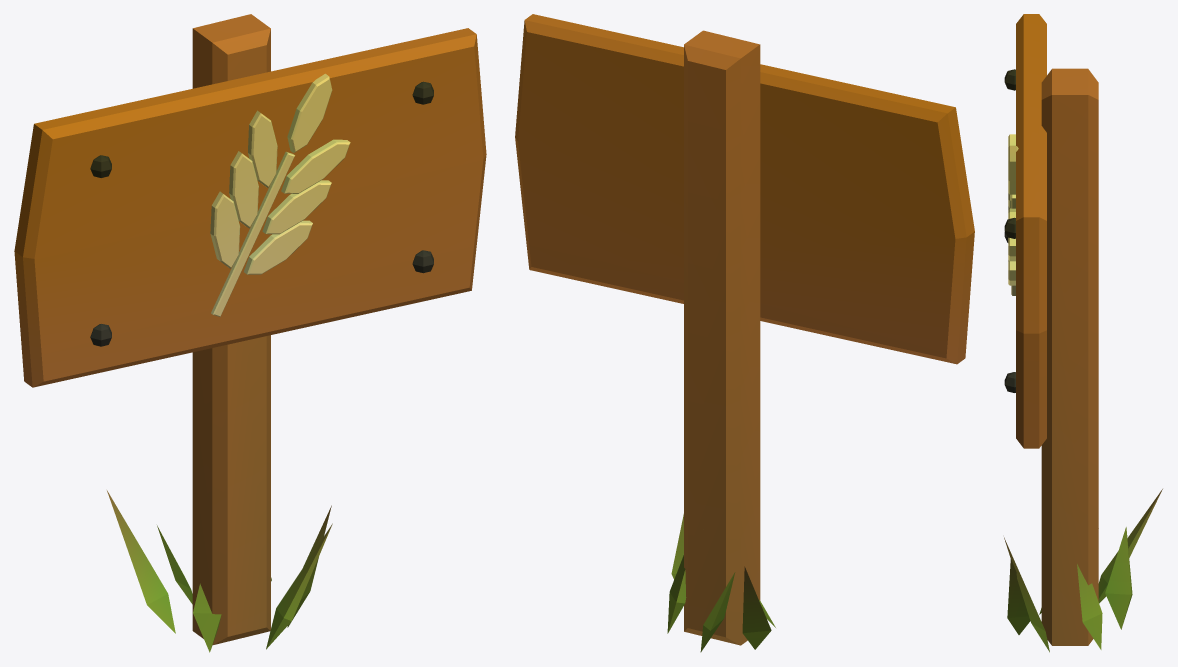
The model's file is Farm_FieldSign.glb.
3 renders of one model, left to right at view 1: azimuth 30°, elevation 25°; view 2: azimuth 150°, elevation 25°; view 3: azimuth 270°, elevation 25°, orthographic. The views are drawn at different scales.
Visible parts, largest first — view 1: Farm_FieldSign; view 2: Farm_FieldSign; view 3: Farm_FieldSign.
Part boxes in pixels (x1,y1,x2,y2): Farm_FieldSign: (14, 14, 486, 652); Farm_FieldSign: (515, 14, 974, 652); Farm_FieldSign: (1004, 14, 1162, 652).
Size of the model in its own units: 0.95 by 1.18 by 0.3111.
